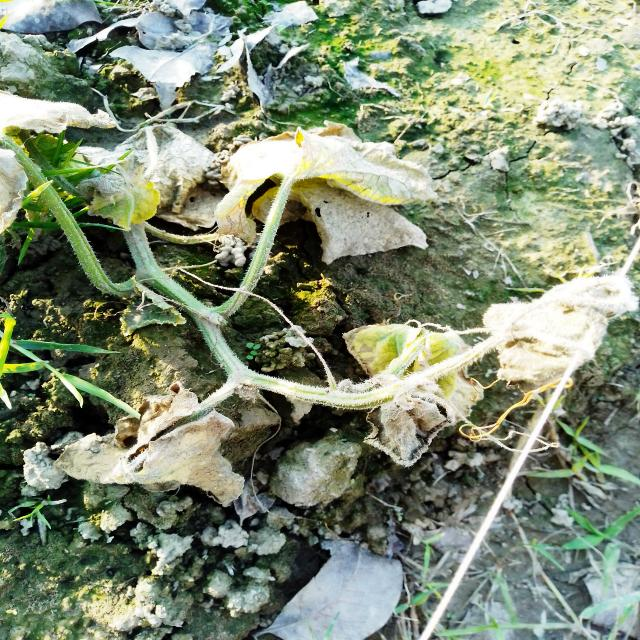Bacterial-Wilt: (211, 121, 445, 265), (49, 381, 249, 505), (362, 381, 456, 473)
